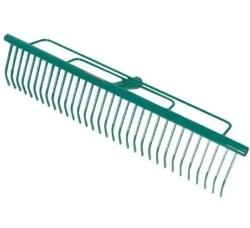RATEAU: (0, 17, 245, 210)
